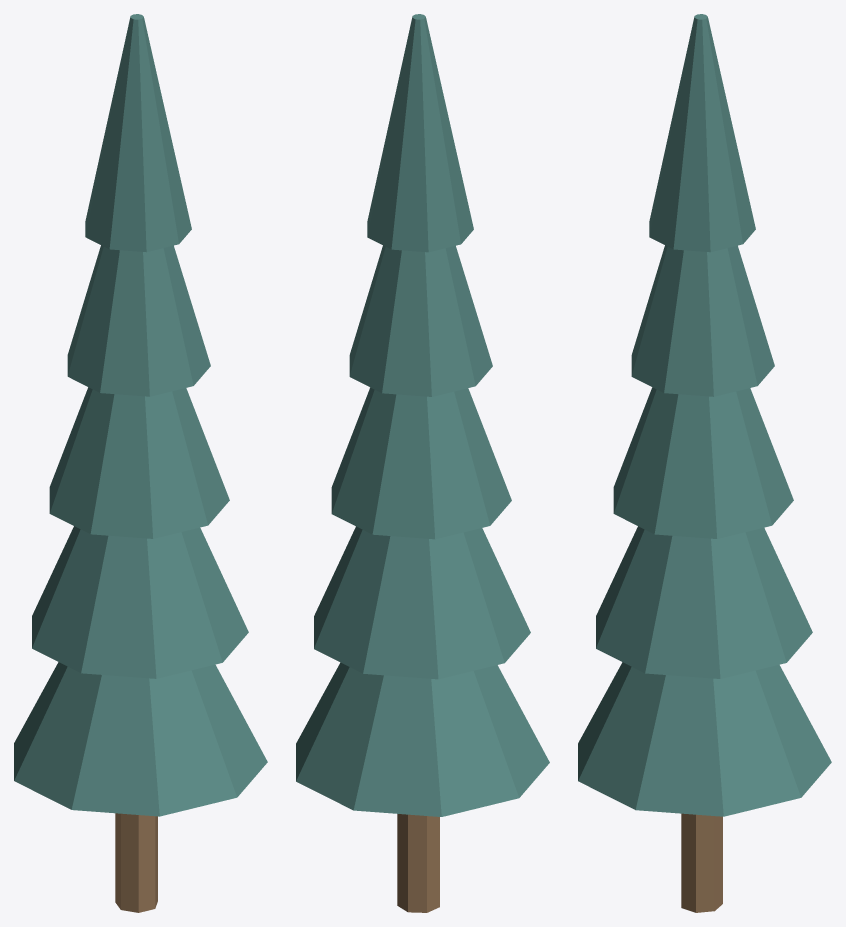
File: conifer_02.glb
3 views of the same model, side by side, from view 1: azimuth 30°, elevation 25°; view 2: azimuth 150°, elevation 25°; view 3: azimuth 270°, elevation 25° (orthographic).
Parts seen in each view (by area): view 1: conifer_02_needles_1, conifer_02_needles_2, conifer_02_needles_3, conifer_02_needles_4, conifer_02_needles_5, conifer_02_trunk; view 2: conifer_02_needles_1, conifer_02_needles_2, conifer_02_needles_3, conifer_02_needles_4, conifer_02_needles_5, conifer_02_trunk; view 3: conifer_02_needles_1, conifer_02_needles_2, conifer_02_needles_3, conifer_02_needles_4, conifer_02_needles_5, conifer_02_trunk.
Boxes of the visible parts, x1,y1,x2,y2 form: conifer_02_needles_1: (14,662,267,816); conifer_02_needles_2: (32,526,248,678); conifer_02_needles_3: (49,387,229,538); conifer_02_needles_4: (67,245,210,396); conifer_02_needles_5: (85,14,191,252); conifer_02_trunk: (115,813,157,912); conifer_02_needles_1: (296,662,549,816); conifer_02_needles_2: (314,526,530,679); conifer_02_needles_3: (331,387,511,539); conifer_02_needles_4: (349,245,492,396); conifer_02_needles_5: (367,14,473,252); conifer_02_trunk: (397,814,439,912); conifer_02_needles_1: (578,662,831,816); conifer_02_needles_2: (596,526,812,678); conifer_02_needles_3: (613,387,793,538); conifer_02_needles_4: (631,245,774,396); conifer_02_needles_5: (649,14,755,252); conifer_02_trunk: (681,813,722,912).
Size of the model in its own units: 1.87 by 7.1 by 1.84.
